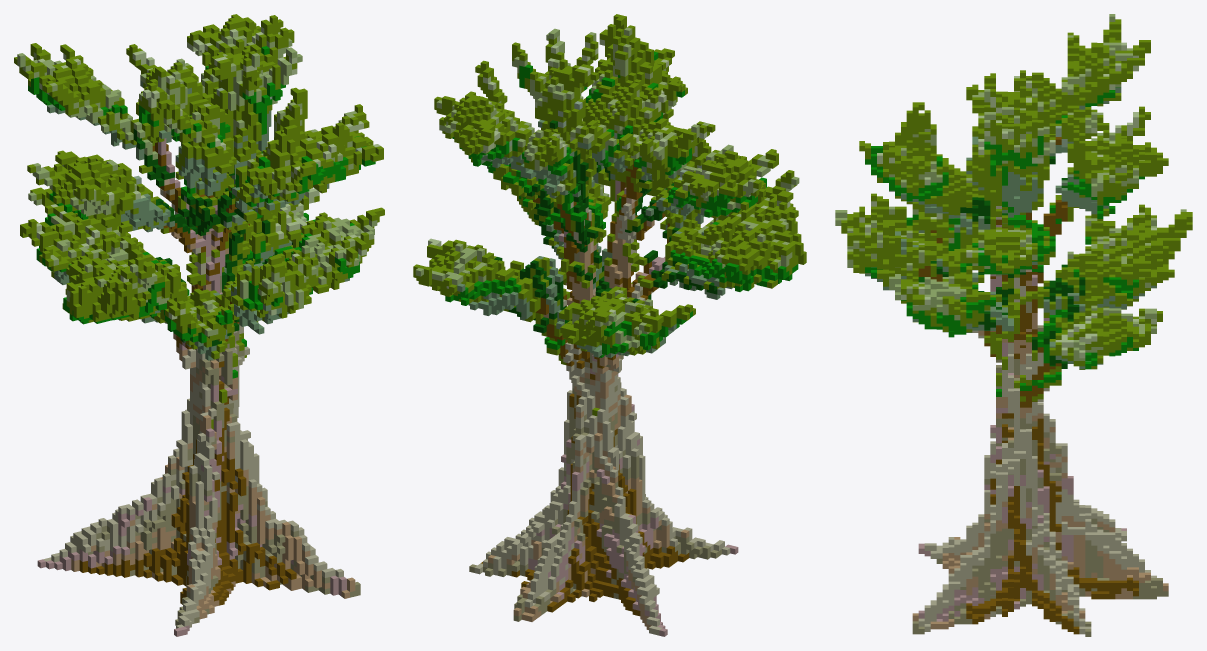
File: kapok_tree_voxel.glb
The picture shows the model from 3 angles, left to right: view 1: azimuth 30°, elevation 25°; view 2: azimuth 150°, elevation 25°; view 3: azimuth 270°, elevation 25°; orthographic projection. The views are drawn at different scales.
Visible parts, largest first — view 1: Geode; view 2: Geode; view 3: Geode.
Part boxes in pixels (x1,y1,x2,y2): Geode: [14, 14, 384, 636]; Geode: [413, 14, 806, 636]; Geode: [835, 14, 1192, 636].
Size of the model in its own units: 62 by 95 by 60.
